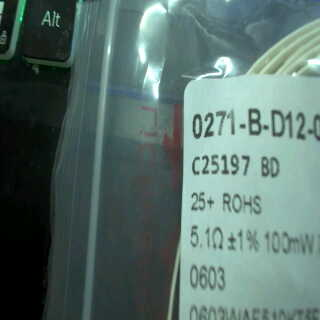5.1R: (188, 217, 225, 256)
